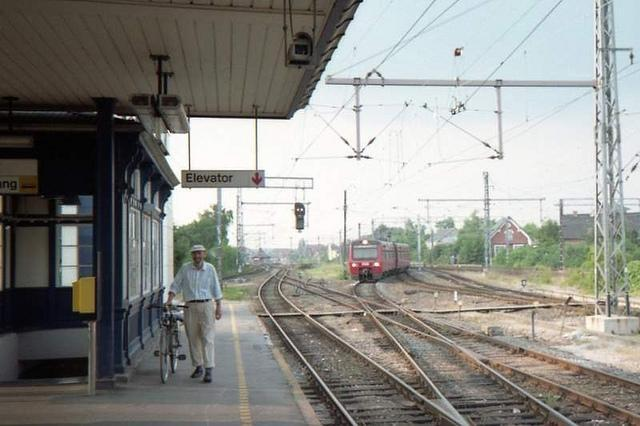bicycle: (147, 304, 186, 381)
